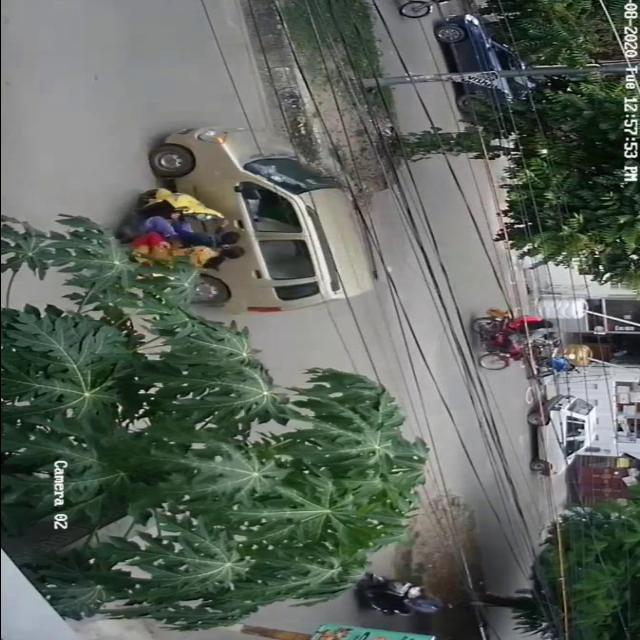accident: (110, 111, 382, 321)
